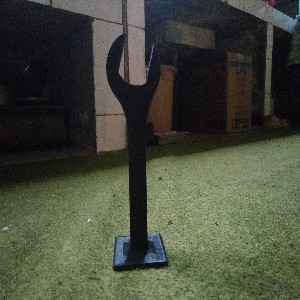spanner: (105, 32, 169, 272)
